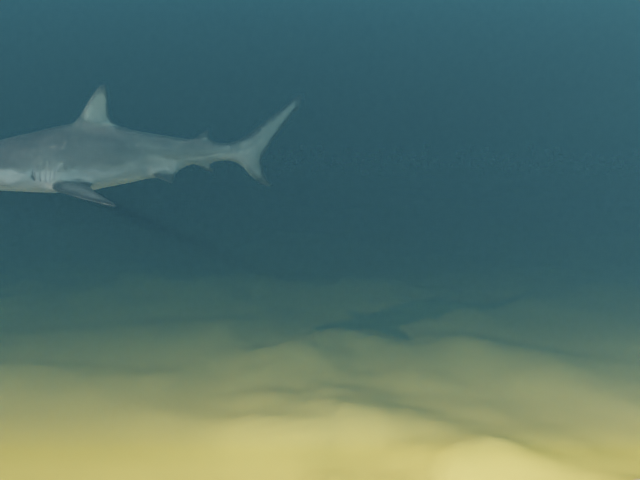Carribean Shark.001: (0, 84, 302, 206)
